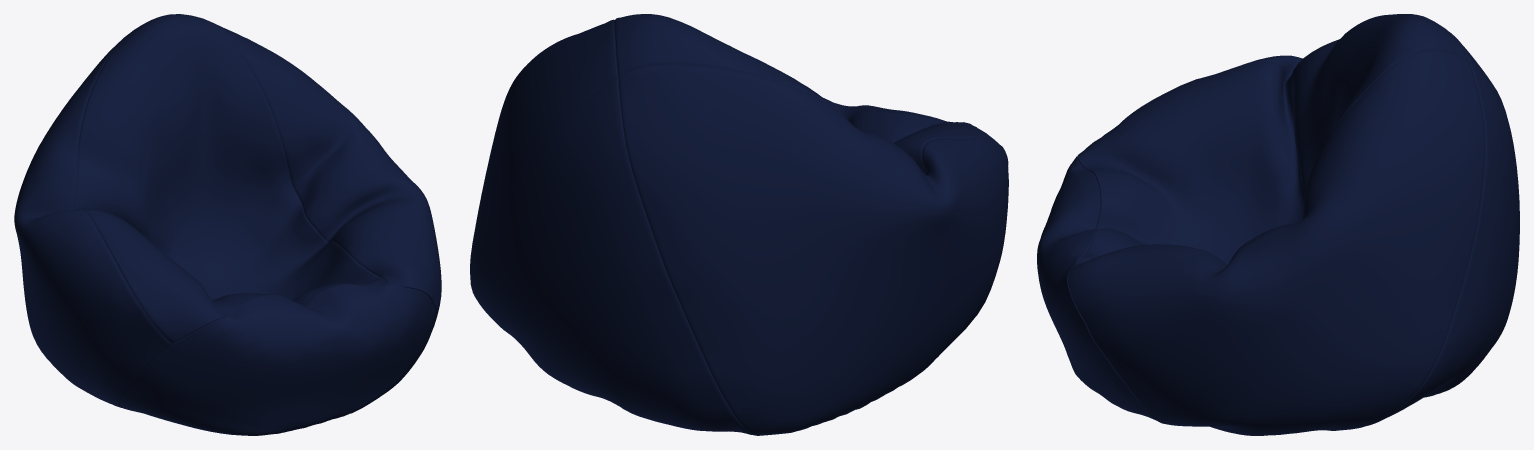
Rendered from Blue_bean_bag.glb.
The picture shows the model from 3 angles, left to right: view 1: azimuth 30°, elevation 25°; view 2: azimuth 150°, elevation 25°; view 3: azimuth 270°, elevation 25°; orthographic projection. The views are drawn at different scales.
Visible parts, largest first — view 1: bean_bag_chair_mesh_n3d; view 2: bean_bag_chair_mesh_n3d; view 3: bean_bag_chair_mesh_n3d.
Part boxes in pixels (box(x1,y1,x2,y2)): bean_bag_chair_mesh_n3d: box(14, 14, 441, 435); bean_bag_chair_mesh_n3d: box(470, 14, 1008, 435); bean_bag_chair_mesh_n3d: box(1037, 14, 1519, 435).
Size of the model in its own units: 1.29 by 1 by 1.3.
